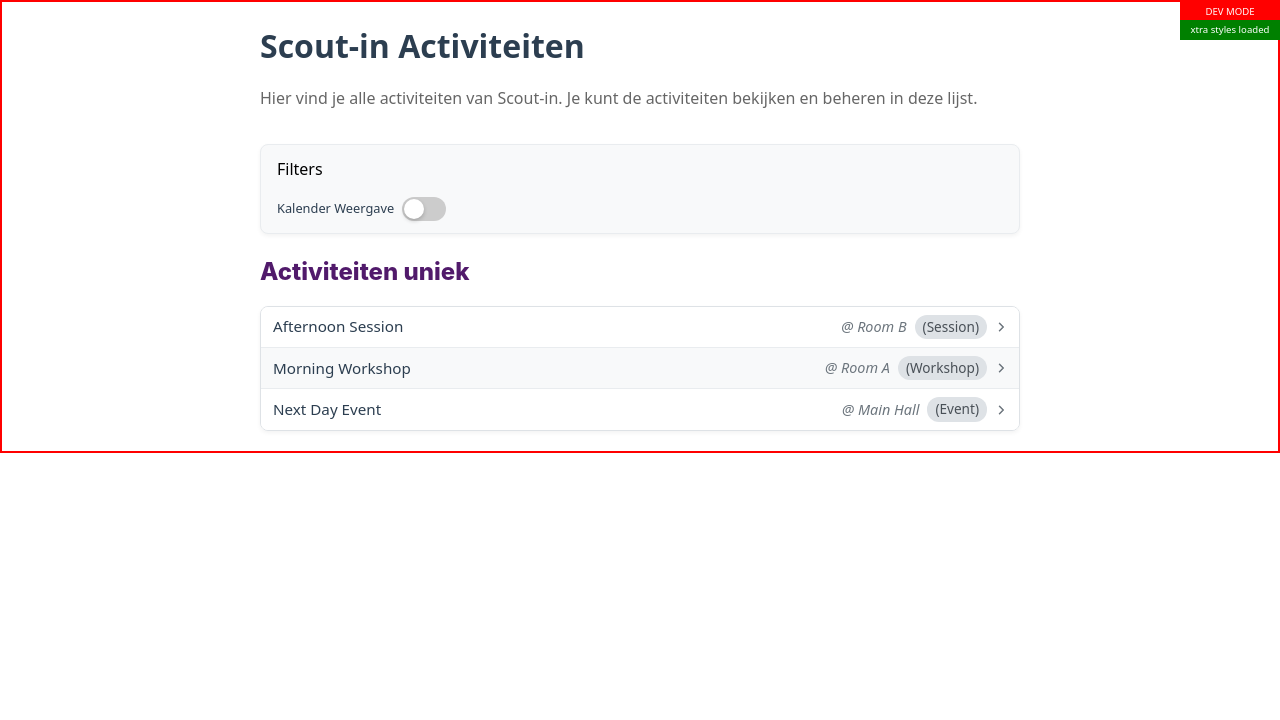
Test: ActivitiesListPage › can toggle between simple and detailed view
Expected: the heading "Scout-in Activiteiten" is shown, [260,24,585,67]
Note: Click toggle to switch to detailed view
Click the switch named "Schakel tussen lijst en kalender weergave" at (424, 209), box [402,197,446,221]
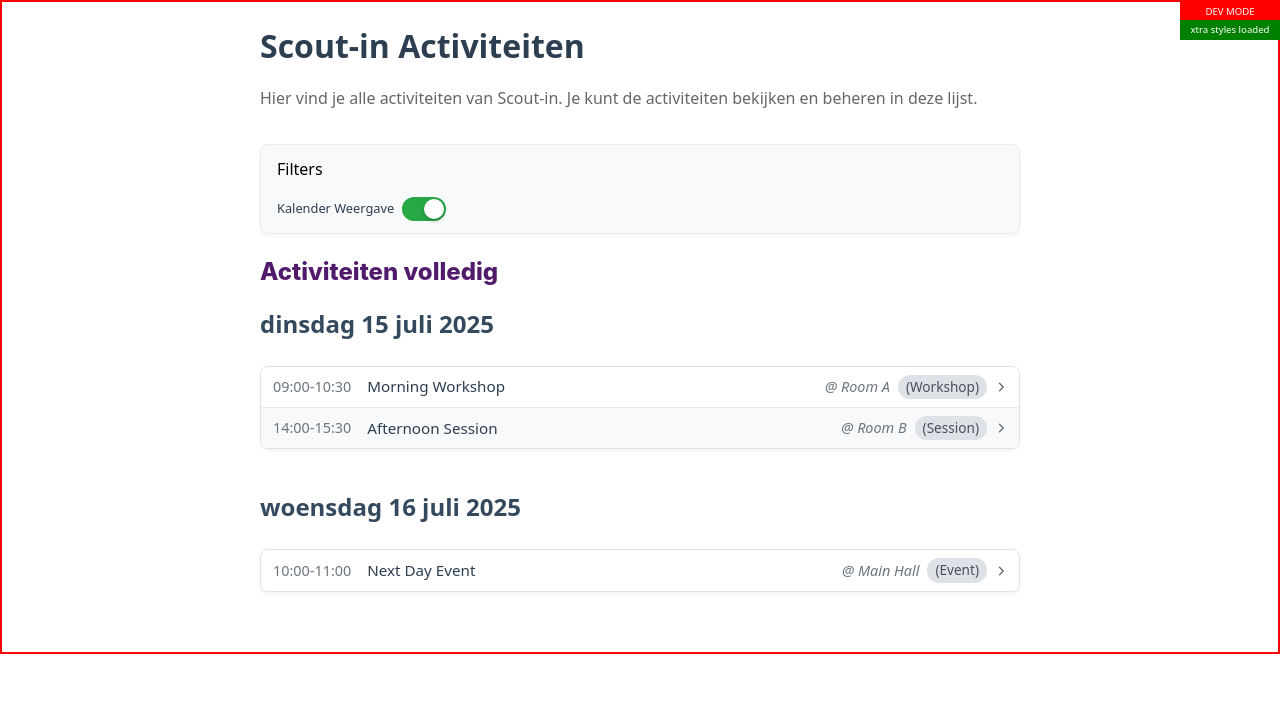
Now the text "09:00-10:30" is shown, box [273,376,351,398]
Note: Click toggle to switch back to simple view
Click the switch named "Schakel tussen lijst en kalender weergave" at (424, 209), box [402,197,446,221]
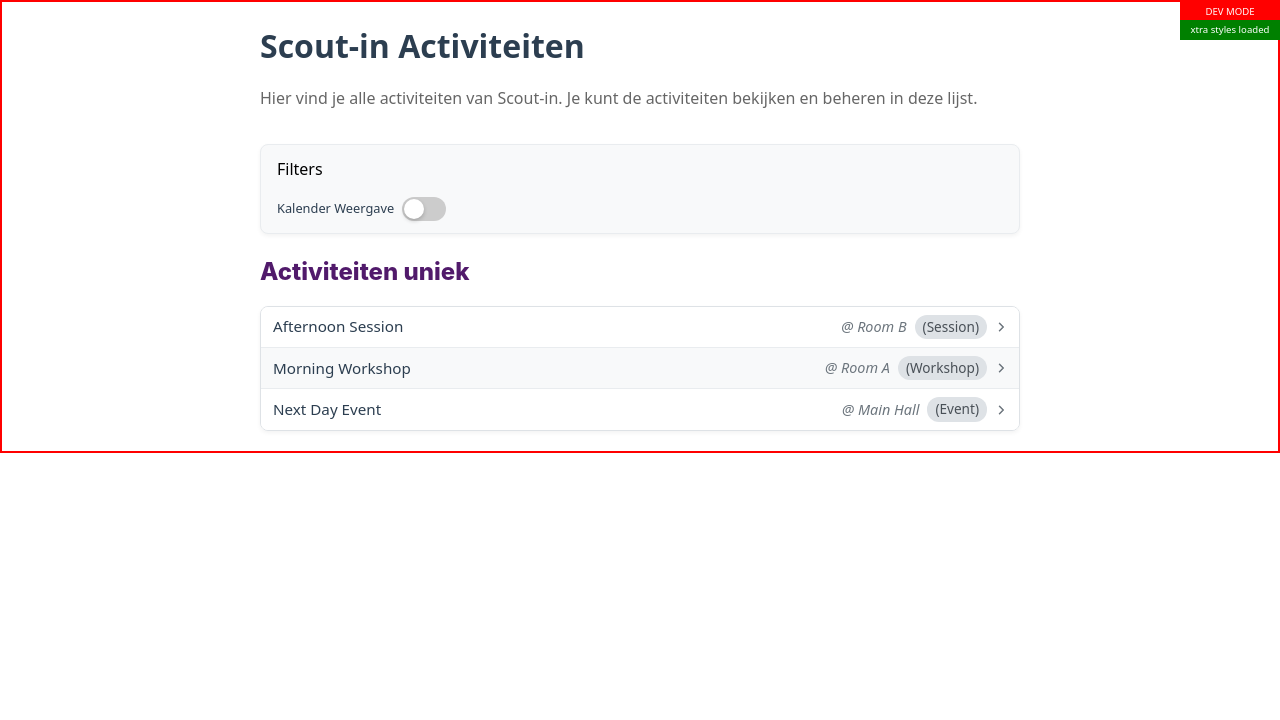
Now the text "09:00-10:30" is gone
